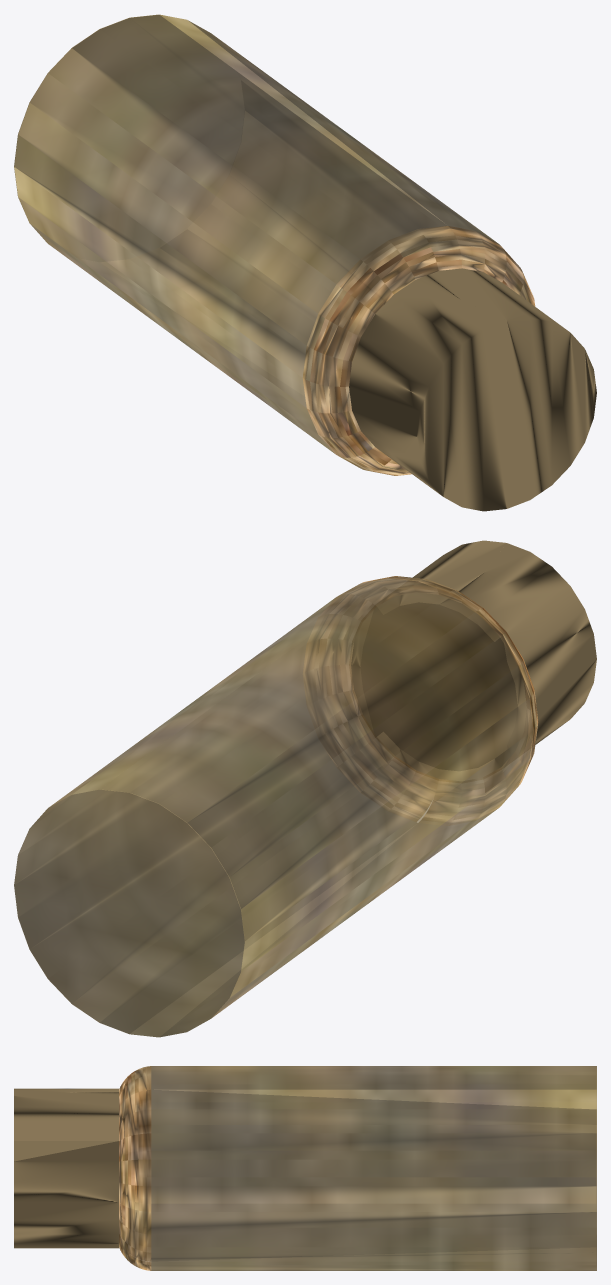
The model's file is model_align.obj.
3 views of the same model, one above another, from view 1: azimuth 30°, elevation 25°; view 2: azimuth 150°, elevation 25°; view 3: azimuth 270°, elevation 25° (orthographic). The views are drawn at different scales.
Bounding box in the file's own units: 0.0725 × 0.0725 × 0.2053.
